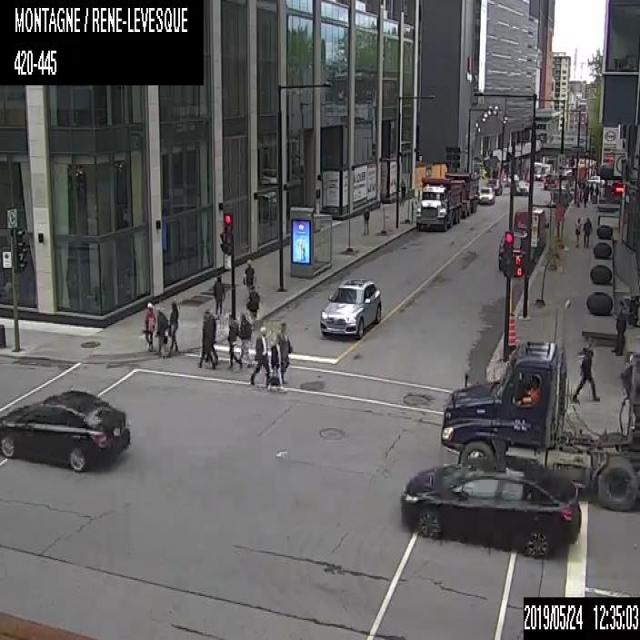construction: (506, 312, 518, 352)
pedestrian: (573, 347, 601, 405), (197, 307, 217, 368), (249, 324, 268, 385), (268, 334, 283, 390), (277, 322, 290, 384), (238, 312, 250, 368), (226, 312, 238, 368), (143, 299, 155, 353), (212, 270, 225, 318), (155, 306, 167, 356), (168, 300, 179, 353), (616, 306, 628, 354), (242, 260, 255, 303), (582, 215, 592, 247), (574, 215, 582, 245), (399, 176, 407, 203), (362, 206, 370, 233), (588, 178, 594, 200), (594, 182, 599, 202), (583, 187, 587, 207)
vehicle: (441, 341, 639, 512), (400, 454, 581, 555), (0, 385, 130, 472), (317, 275, 382, 337), (413, 174, 465, 231), (442, 169, 478, 216), (512, 206, 545, 254), (498, 231, 534, 274), (477, 184, 495, 205), (533, 162, 552, 179), (486, 177, 502, 196), (512, 178, 527, 197), (543, 173, 558, 189)
